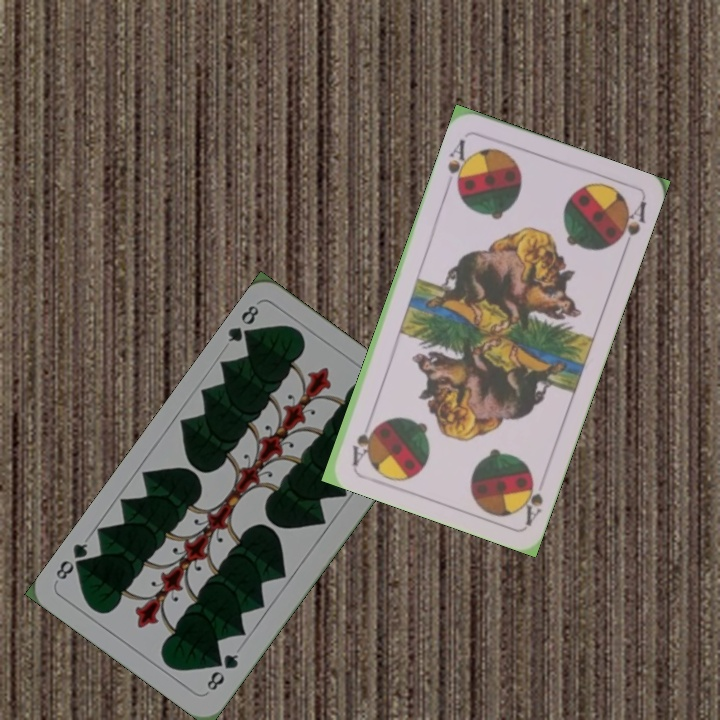G8: (223, 301, 262, 347), (202, 650, 241, 694)
SA: (515, 468, 546, 528), (442, 135, 473, 194)
